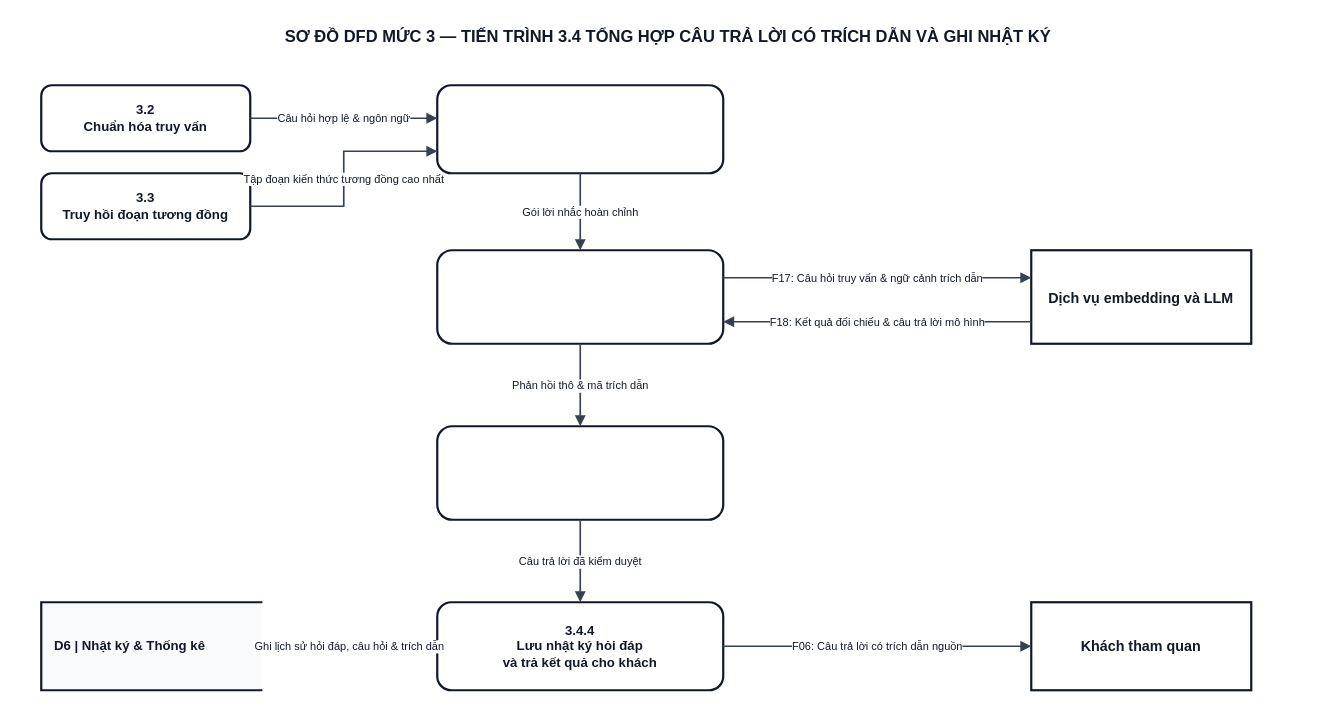
Some shapes in this 1335 by 710 pixel diagram are drawn without their labels. The centre of each missing label's shape, as x and y in pixels:
"3.4.1 Đóng gói lời nhắc hệ thống kèm ngữ cảnh đoạn kiến thức" goes at (580,129).
"3.4.2 Gọi mô hình ngôn ngữ sinh phản hồi theo ngữ cảnh" goes at (580,296).
"3.4.3 Kiểm tra trích dẫn hợp lệ và lọc liên kết ngoài nguồn" goes at (580,472).
